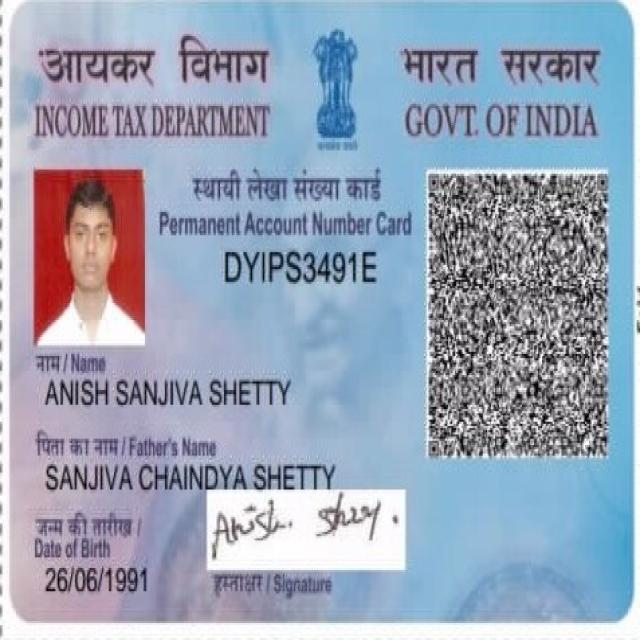pan_card: (9, 5, 635, 621)
